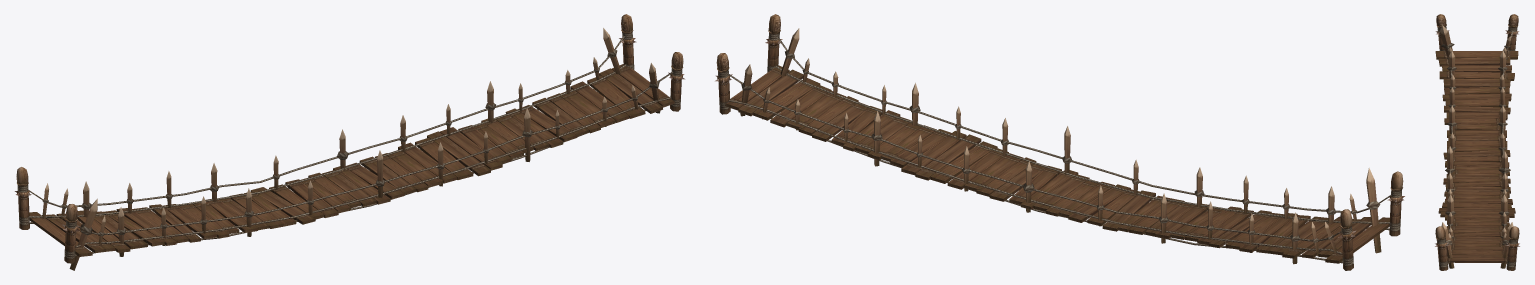
File: Lty_qiao01.FBX
3 renders of one model, left to right at view 1: azimuth 30°, elevation 25°; view 2: azimuth 150°, elevation 25°; view 3: azimuth 270°, elevation 25°, orthographic. The views are drawn at different scales.
Visible parts, largest first — view 1: Lty_qiao01; view 2: Lty_qiao01; view 3: Lty_qiao01.
Boxes of the visible parts, box(x1,y1,x2,y2) form: Lty_qiao01: box(14, 14, 685, 270); Lty_qiao01: box(714, 14, 1405, 270); Lty_qiao01: box(1434, 14, 1520, 270).
Size of the model in its own units: 1842 by 303 by 251.
